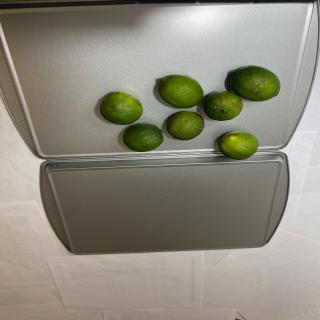Chilli: (99, 64, 281, 159)
Lemon: (230, 65, 280, 101), (158, 74, 204, 109), (99, 91, 143, 125), (122, 123, 164, 152), (166, 110, 205, 141), (203, 91, 243, 121), (219, 131, 259, 160)
